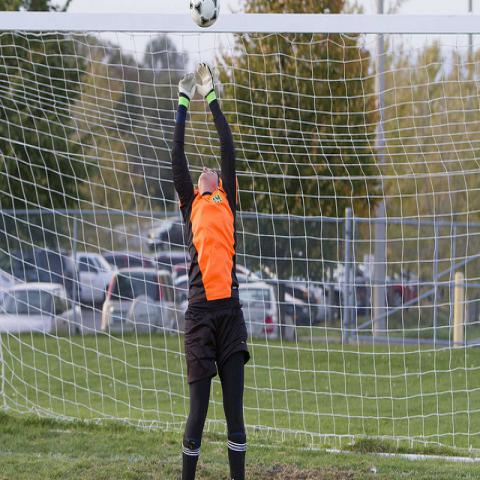car: (174, 273, 279, 339), (101, 267, 186, 335), (2, 282, 83, 335), (6, 248, 74, 300), (66, 255, 115, 302), (282, 280, 319, 336), (143, 216, 188, 252), (152, 248, 192, 279), (102, 251, 156, 269), (308, 284, 331, 324), (387, 280, 418, 306), (355, 265, 367, 316), (334, 285, 344, 319)
truck: (33, 250, 118, 308)
